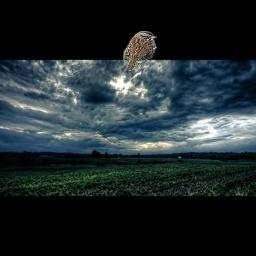Sparrow: (123, 31, 157, 71)
